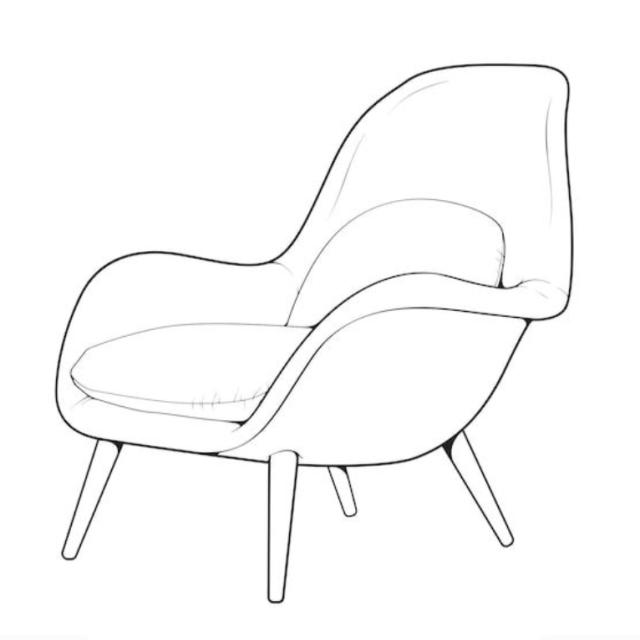Armrest: (214, 271, 571, 463), (53, 247, 302, 379)
Backrest: (270, 62, 575, 298)
Leg_Structure: (57, 427, 517, 604)
Seat: (68, 320, 318, 428)
